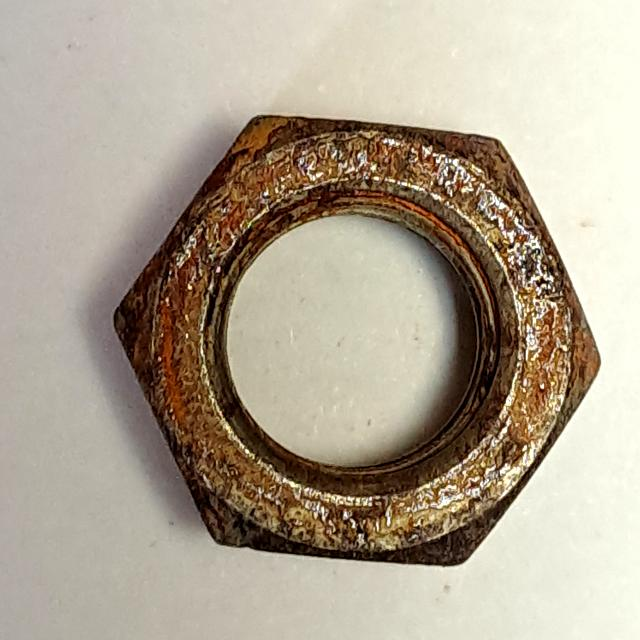Rust: (106, 96, 614, 589)
